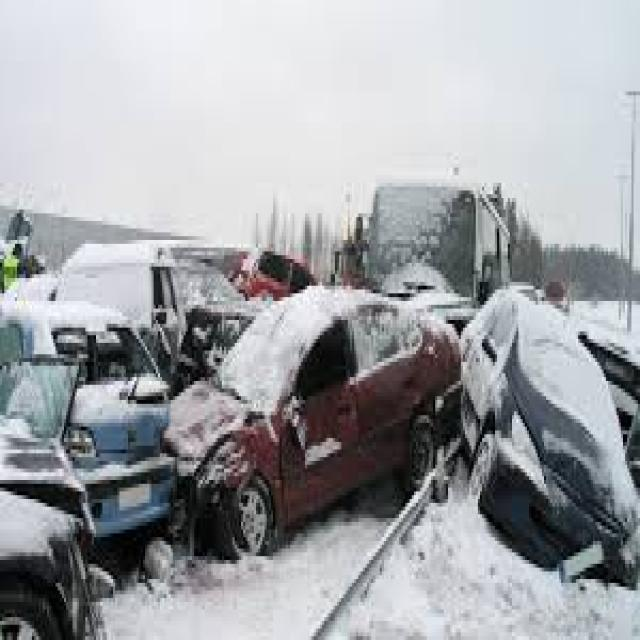Accident: (0, 234, 462, 638), (178, 263, 640, 587)
